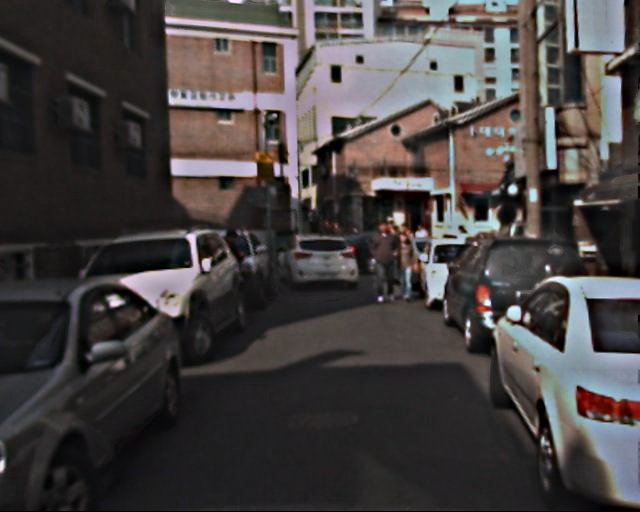person: (366, 221, 401, 306), (217, 230, 249, 309), (387, 226, 419, 304)
